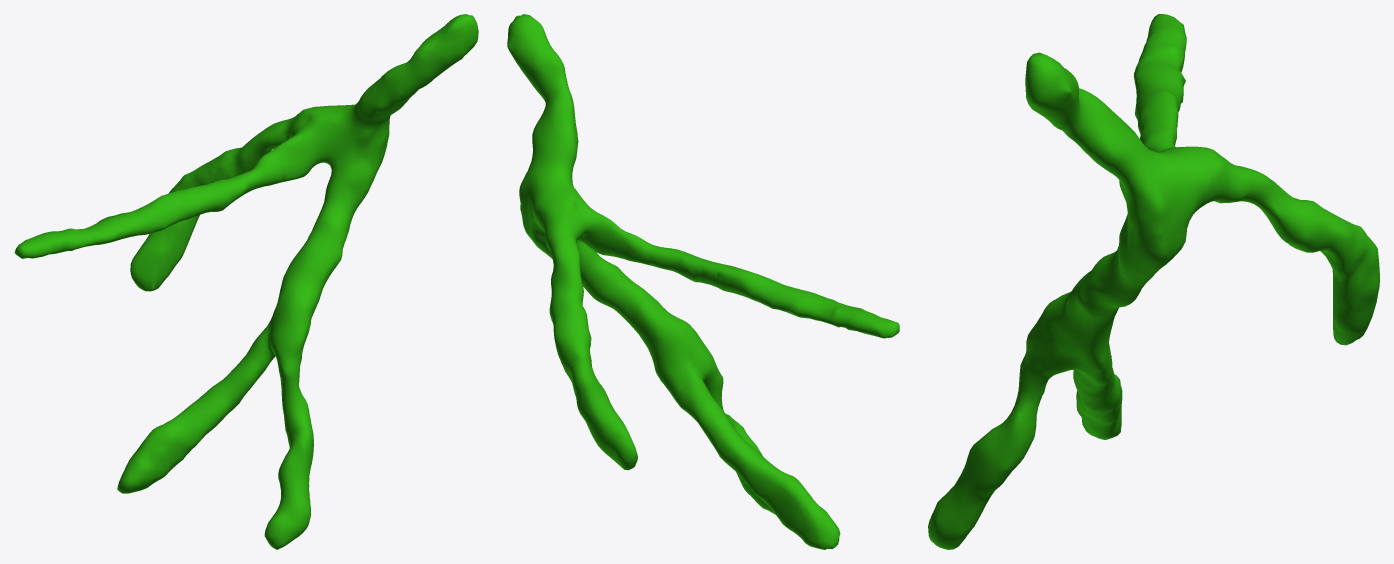
3 views of the same model, side by side, from view 1: azimuth 30°, elevation 25°; view 2: azimuth 150°, elevation 25°; view 3: azimuth 270°, elevation 25° (orthographic). The views are drawn at different scales.
Parts seen in each view (by area): view 1: Polygonal_Model_1_Triangles_0; view 2: Polygonal_Model_1_Triangles_0; view 3: Polygonal_Model_1_Triangles_0.
Part boxes in pixels (<box>): Polygonal_Model_1_Triangles_0: <box>14,14,478,549</box>; Polygonal_Model_1_Triangles_0: <box>507,14,899,549</box>; Polygonal_Model_1_Triangles_0: <box>928,14,1379,549</box>.
Size of the model in its own units: 2.05 by 2.13 by 1.36.
